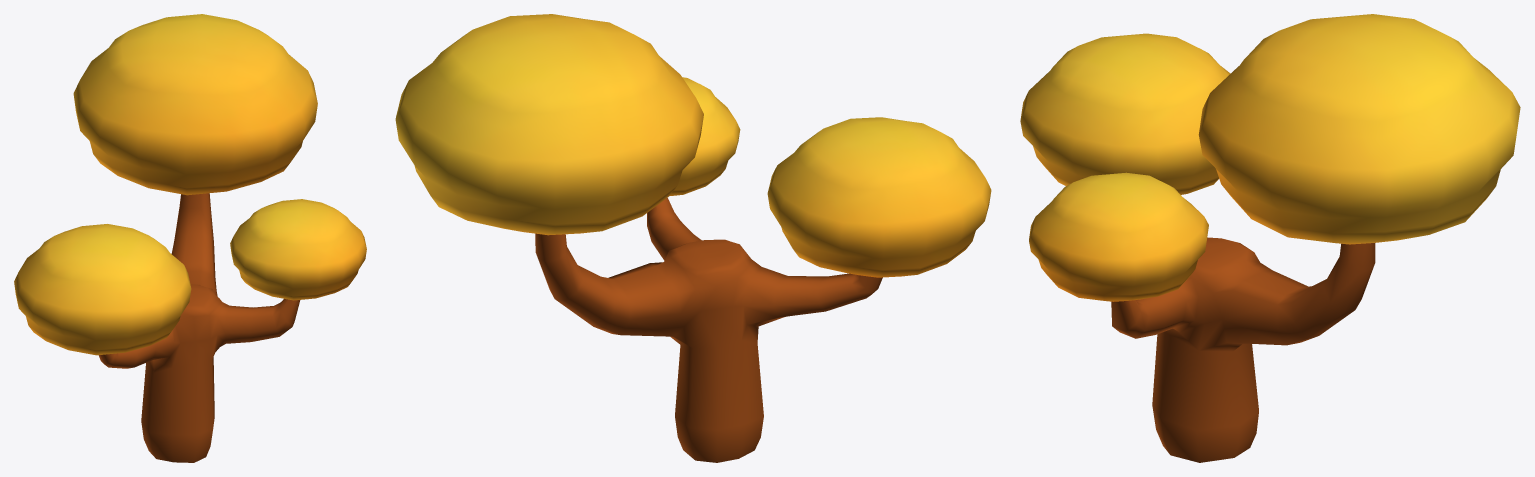
The model's file is SM_Tree_34.fbx.
The picture shows the model from 3 angles, left to right: view 1: azimuth 30°, elevation 25°; view 2: azimuth 150°, elevation 25°; view 3: azimuth 270°, elevation 25°; orthographic projection. The views are drawn at different scales.
Parts seen in each view (by area): view 1: SM_Tree_34; view 2: SM_Tree_34; view 3: SM_Tree_34.
Boxes of the visible parts, x1,y1,x2,y2 form: SM_Tree_34: (14,14,366,462); SM_Tree_34: (395,14,991,462); SM_Tree_34: (1020,14,1520,462).
Size of the model in its own units: 652 by 602 by 599.
